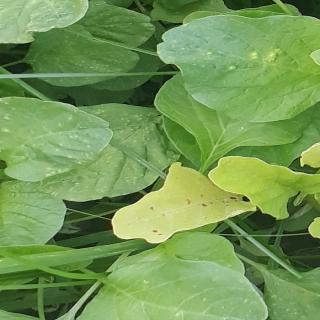karat_putih: (3, 95, 168, 200), (149, 26, 316, 86), (42, 22, 146, 84)
kekurangan_mangan: (110, 161, 258, 247), (296, 91, 320, 174), (310, 201, 320, 315)
virus_keriting: (5, 0, 80, 47)
